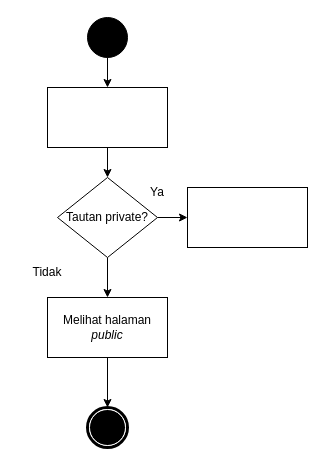
Some shapes in this 325 by 465 pixel diagram are drawn without their labels. The centre of each missing label's shape, as x and y in pixels:
Melihat halaman private: (x=247, y=217)
Terima tautan undangan: (x=107, y=117)
